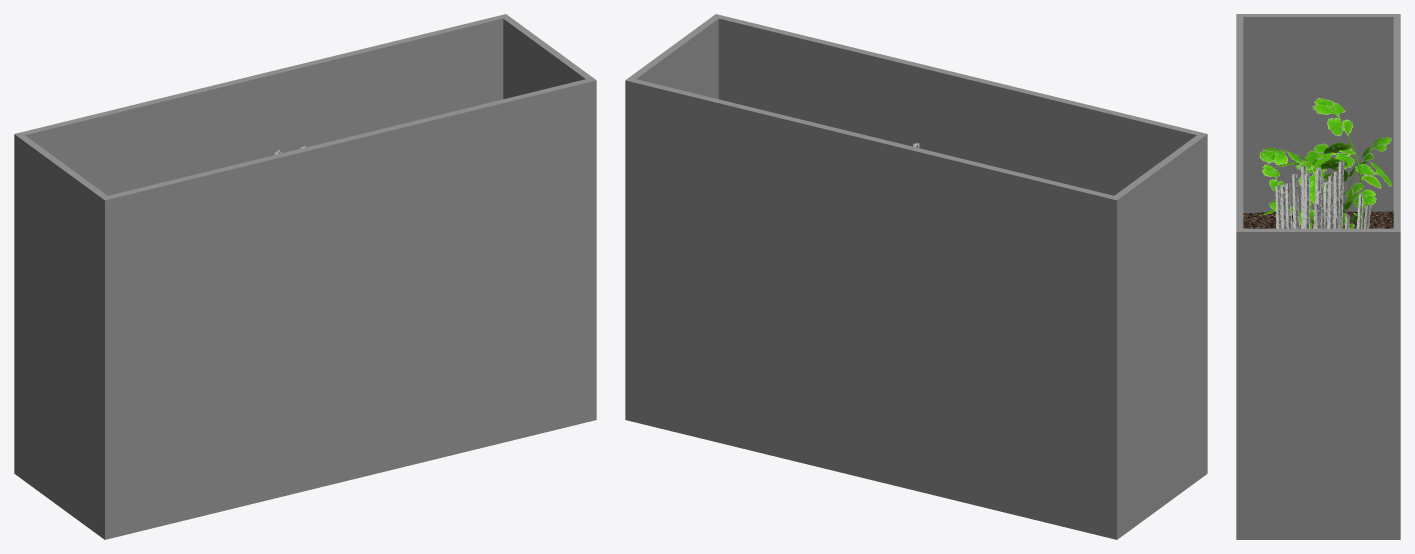
File: Mesh Import Test.unity_69.obj
3 views of the same model, side by side, from view 1: azimuth 30°, elevation 25°; view 2: azimuth 150°, elevation 25°; view 3: azimuth 270°, elevation 25° (orthographic). The views are drawn at different scales.
Parts seen in each view (by area): view 1: Box002; view 2: Box002; view 3: Box002, Coriandre_c1, Terre, Coriandre_c003, Coriandre_c008, Romarin_twoface011, Romarin_twoface006, Romarin_twoface010, Romarin_twoface005, Coriandre_c2, Romarin_twoface004, Coriandre_c006 (+5 smaller).
Part boxes in pixels (box(x1,y1,x2,y2)): Box002: box(14, 14, 596, 539); Box002: box(625, 14, 1207, 539); Box002: box(1236, 14, 1400, 539); Coriandre_c1: box(1303, 98, 1391, 228); Terre: box(1243, 211, 1393, 228); Coriandre_c003: box(1259, 148, 1326, 202); Coriandre_c008: box(1343, 137, 1391, 228); Romarin_twoface011: box(1303, 172, 1310, 228); Romarin_twoface006: box(1327, 174, 1334, 228); Romarin_twoface010: box(1291, 173, 1299, 228); Romarin_twoface005: box(1333, 170, 1340, 228); Coriandre_c2: box(1320, 158, 1349, 196); Romarin_twoface004: box(1338, 160, 1344, 228); Coriandre_c006: box(1262, 164, 1283, 194).
Size of the model in its own units: 1.15 by 0.7611 by 0.3685.
7 materials, 5 textured.
